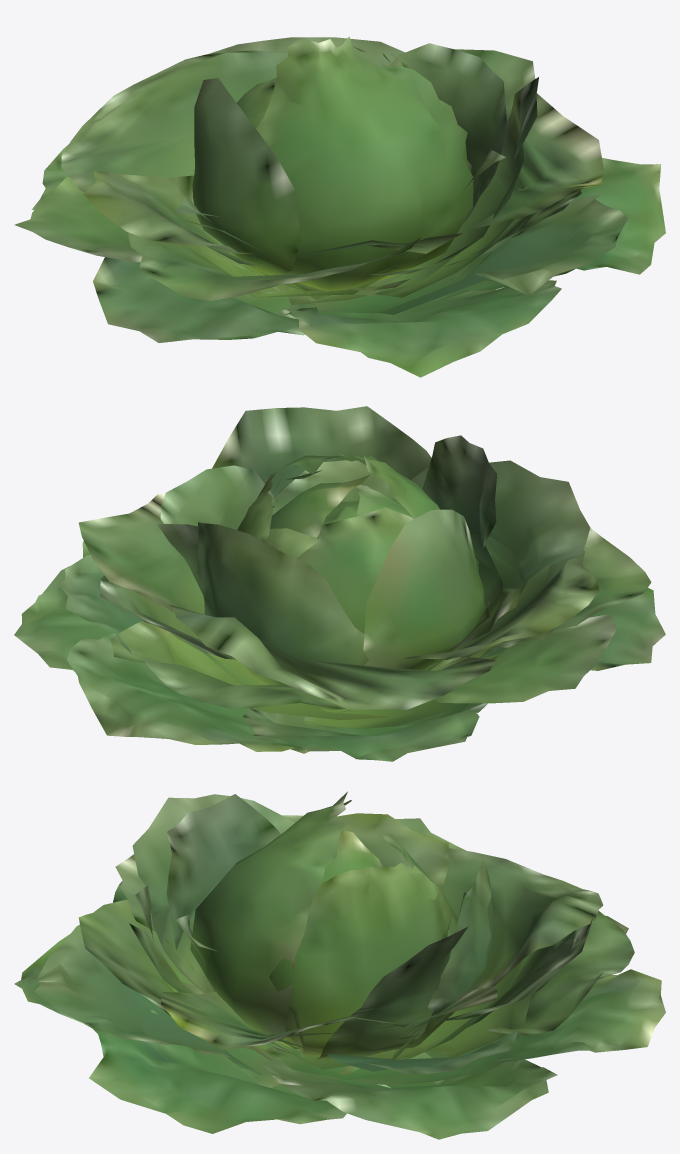
File: SM_Lettuce_L_abaf96.glb
3 views of the same model, one above another, from view 1: azimuth 30°, elevation 25°; view 2: azimuth 150°, elevation 25°; view 3: azimuth 270°, elevation 25° (orthographic). The views are drawn at different scales.
Bounding box in the file's own units: 0.7753 × 0.3695 × 0.773.
Materials: 1 (1 with a texture image).
